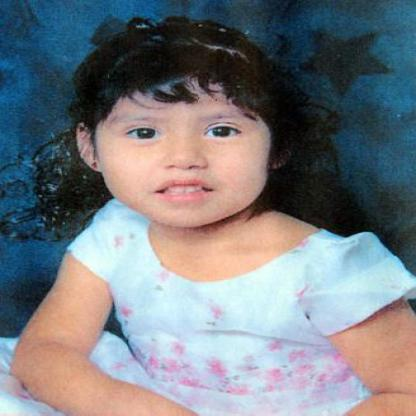face: (93, 39, 282, 229)
